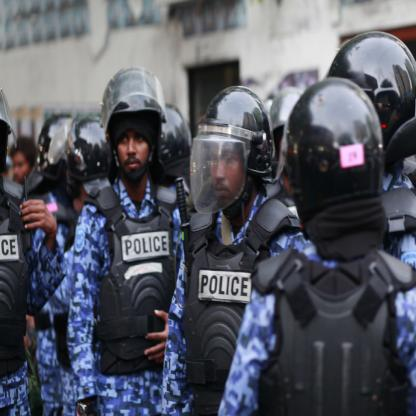Helmet: (272, 81, 391, 260), (327, 26, 416, 165), (194, 79, 280, 217), (99, 71, 172, 193), (49, 114, 112, 182), (155, 101, 192, 195), (267, 86, 306, 138), (35, 111, 66, 164), (0, 84, 18, 148)
